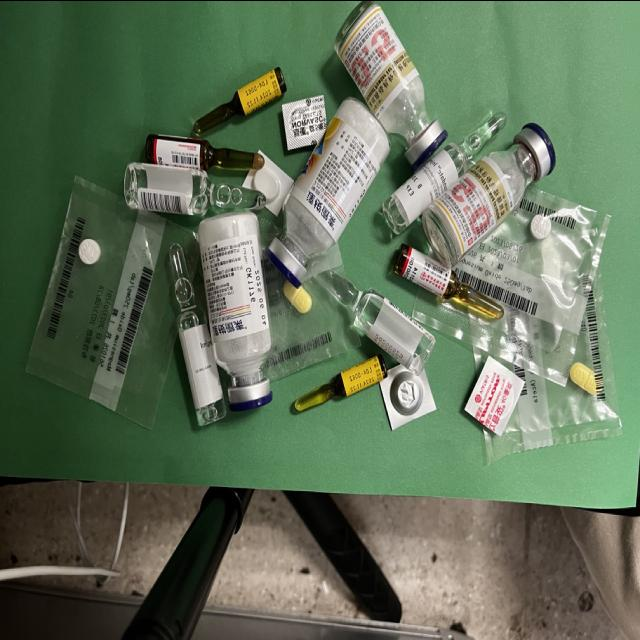Ampoules: (382, 112, 506, 233), (313, 261, 437, 375), (169, 243, 226, 425), (394, 244, 504, 320), (124, 162, 269, 215), (194, 67, 286, 133), (293, 355, 387, 412), (146, 134, 265, 170)
Vials: (266, 1, 447, 285), (422, 123, 554, 266), (198, 211, 272, 411)
